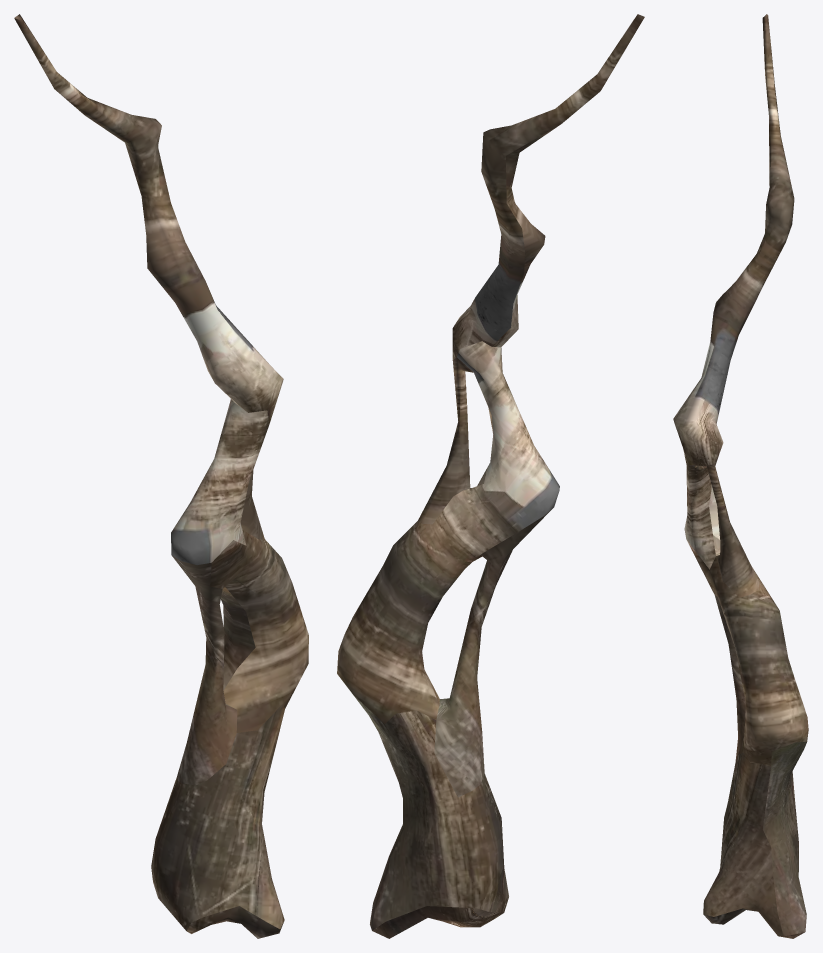
3 views of the same model, side by side, from view 1: azimuth 30°, elevation 25°; view 2: azimuth 150°, elevation 25°; view 3: azimuth 270°, elevation 25° (orthographic). The views are drawn at different scales.
Parts seen in each view (by area): view 1: SM_Wicker_Fence_01v3_LOD0; view 2: SM_Wicker_Fence_01v3_LOD0; view 3: SM_Wicker_Fence_01v3_LOD0.
Boxes of the visible parts, x1=… form: SM_Wicker_Fence_01v3_LOD0: x1=14, y1=14, x2=308, y2=938; SM_Wicker_Fence_01v3_LOD0: x1=337, y1=14, x2=644, y2=938; SM_Wicker_Fence_01v3_LOD0: x1=673, y1=14, x2=808, y2=938.
Size of the model in its own units: 0.4667 by 1.45 by 0.2167.
